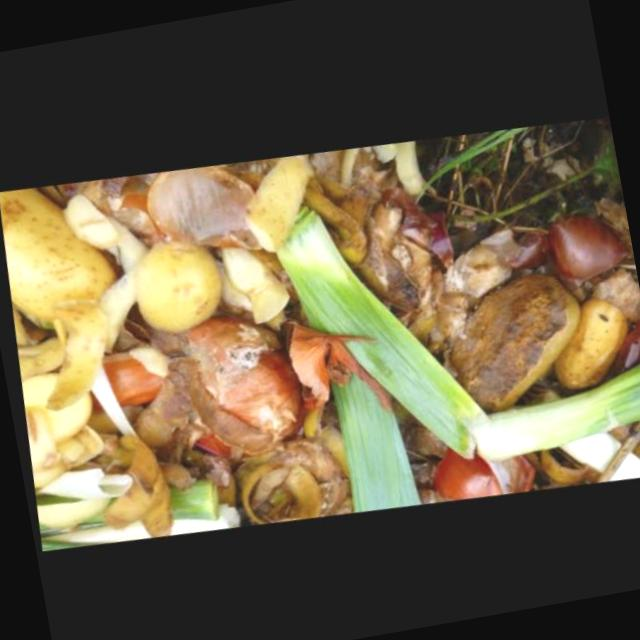vo_rau_cu: (271, 201, 477, 454), (151, 310, 303, 456), (440, 266, 576, 409), (465, 353, 640, 458), (299, 144, 411, 305), (0, 188, 115, 327), (233, 393, 353, 523), (325, 348, 421, 510), (8, 311, 89, 468), (138, 166, 266, 247), (35, 468, 143, 552), (40, 300, 117, 412), (131, 238, 220, 332), (99, 433, 173, 537), (547, 291, 628, 386), (66, 172, 161, 248), (395, 202, 443, 333), (541, 208, 621, 276), (436, 446, 539, 496), (440, 231, 509, 303), (575, 245, 640, 316), (168, 478, 238, 535), (98, 350, 161, 407), (590, 190, 634, 256)
